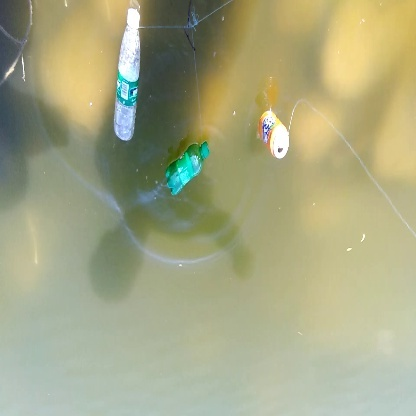bottle: (159, 134, 220, 197)
